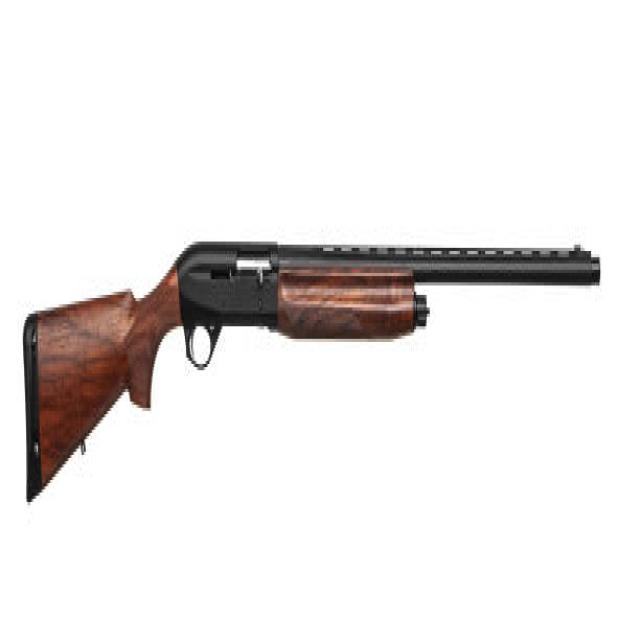rifle: (22, 225, 608, 514)
